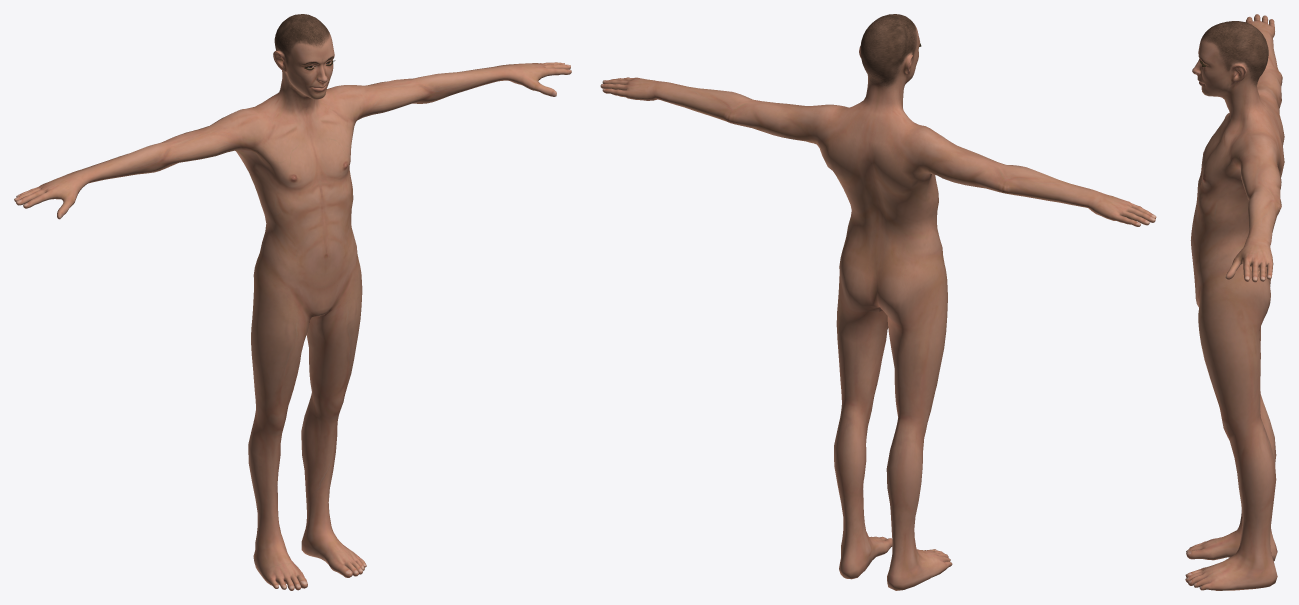
3 renders of one model, left to right at view 1: azimuth 30°, elevation 25°; view 2: azimuth 150°, elevation 25°; view 3: azimuth 270°, elevation 25°, orthographic.
Visible parts, largest first — view 1: BodyParts; view 2: BodyParts; view 3: BodyParts.
Part boxes in pixels (box(x1,y1,x2,y2)): BodyParts: box(14, 14, 571, 590); BodyParts: box(600, 14, 1156, 590); BodyParts: box(1185, 14, 1284, 590).
Size of the model in its own units: 187 by 179 by 29.21.
Materials: 1 (1 with a texture image).
